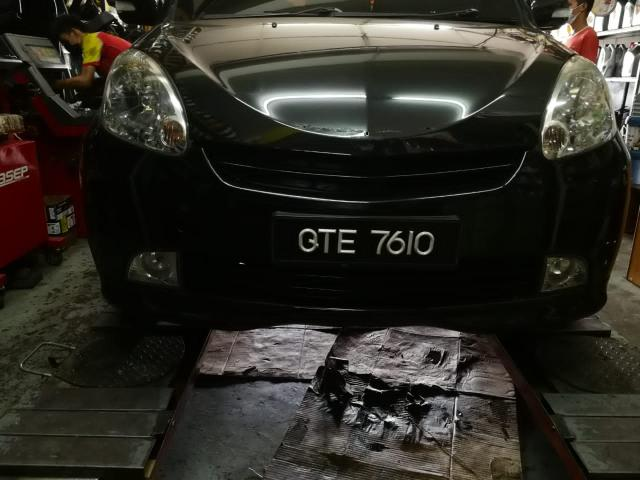License_Plate: (273, 216, 463, 272)
car: (100, 1, 636, 317)
